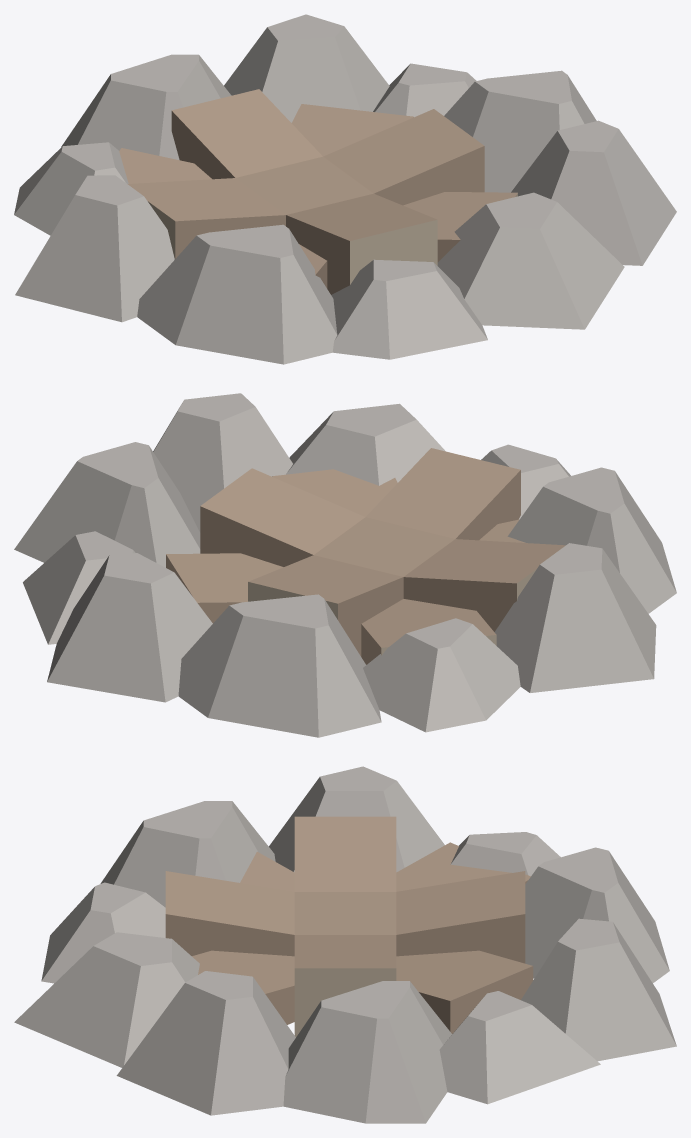
Rendered from campfire.glb.
3 views of the same model, one above another, from view 1: azimuth 30°, elevation 25°; view 2: azimuth 150°, elevation 25°; view 3: azimuth 270°, elevation 25° (orthographic). The views are drawn at different scales.
Visible parts, largest first — view 1: campfire; view 2: campfire; view 3: campfire.
Boxes of the visible parts, box(x1,y1,x2,y2) form: campfire: box(14, 14, 676, 364); campfire: box(14, 393, 676, 737); campfire: box(14, 766, 676, 1123).
Size of the model in its own units: 28 by 4.03 by 26.69.
